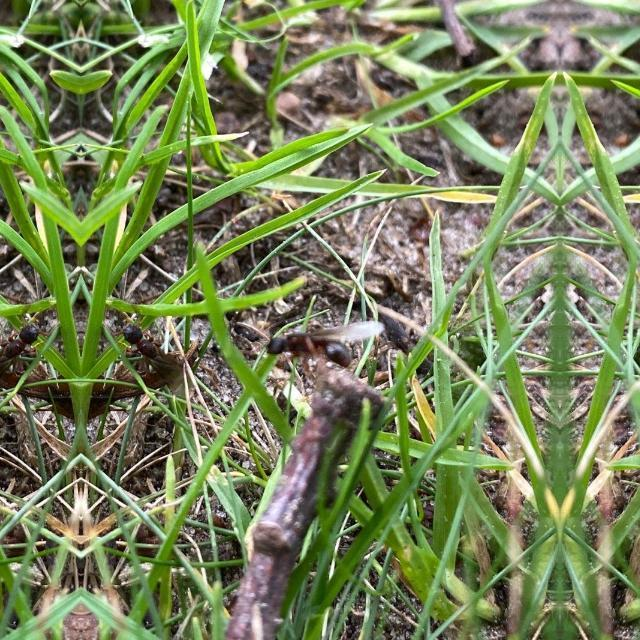Myrmica: (257, 310, 383, 370), (118, 306, 186, 386), (0, 305, 40, 384)
